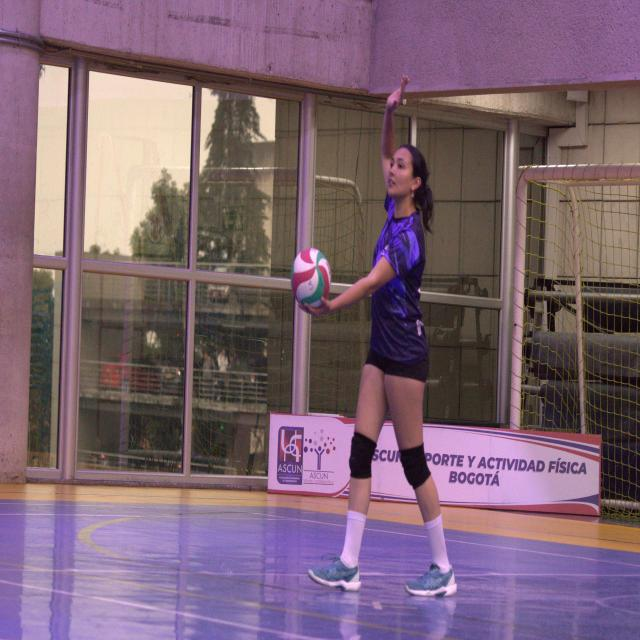volleyball: (291, 246, 331, 307)
